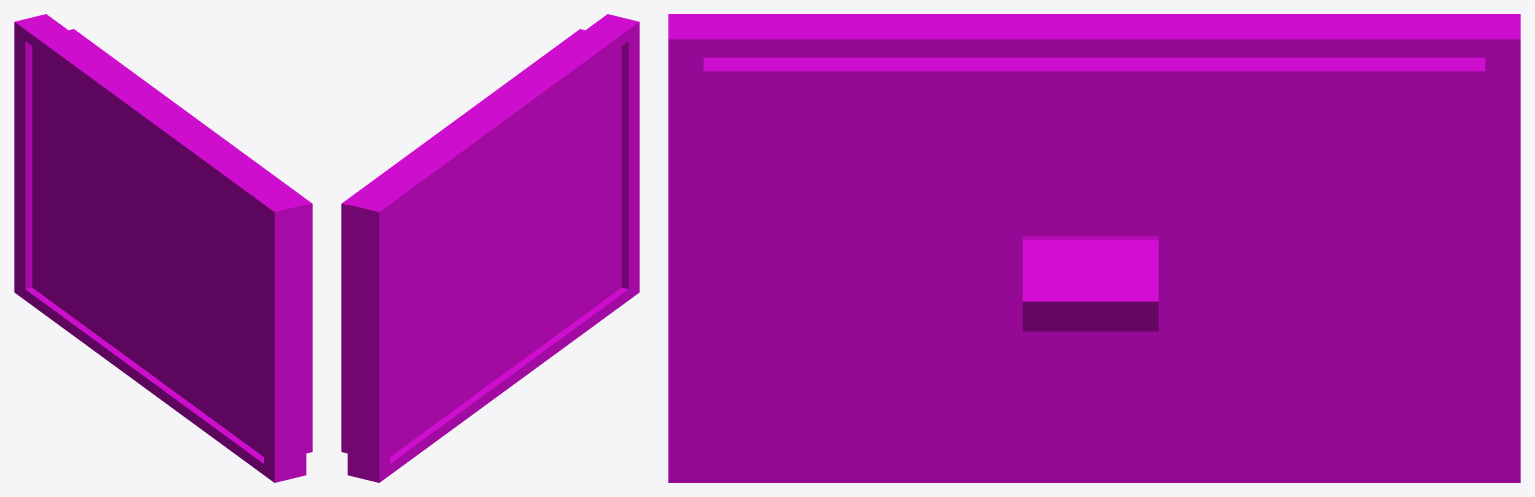
File: Monitor01.fbx
3 views of the same model, side by side, from view 1: azimuth 30°, elevation 25°; view 2: azimuth 150°, elevation 25°; view 3: azimuth 270°, elevation 25° (orthographic). The views are drawn at different scales.
Visible parts, largest first — view 1: pCube25; view 2: pCube25; view 3: pCube25.
Boxes of the visible parts, <box> form: pCube25: <box>14,14,312,482</box>; pCube25: <box>341,14,639,482</box>; pCube25: <box>668,14,1520,482</box>.
Size of the model in its own units: 42.83 by 125 by 218.
